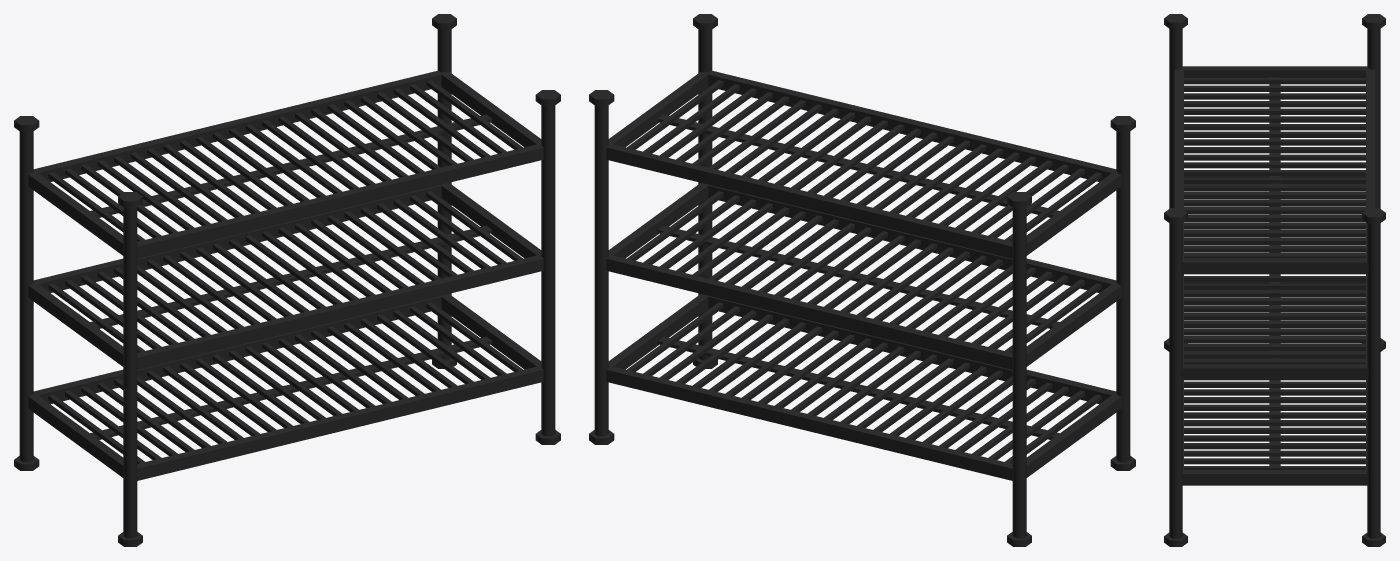
Rendered from bookshelf.fbx.
3 views of the same model, side by side, from view 1: azimuth 30°, elevation 25°; view 2: azimuth 150°, elevation 25°; view 3: azimuth 270°, elevation 25° (orthographic). The views are drawn at different scales.
Parts seen in each view (by area): view 1: ShoeHolder_02; view 2: ShoeHolder_02; view 3: ShoeHolder_02.
Boxes of the visible parts, x1=… form: ShoeHolder_02: x1=14, y1=14, x2=560, y2=546; ShoeHolder_02: x1=589, y1=14, x2=1135, y2=546; ShoeHolder_02: x1=1164, y1=14, x2=1385, y2=546.
Size of the model in its own units: 79.12 by 59.86 by 36.52.
